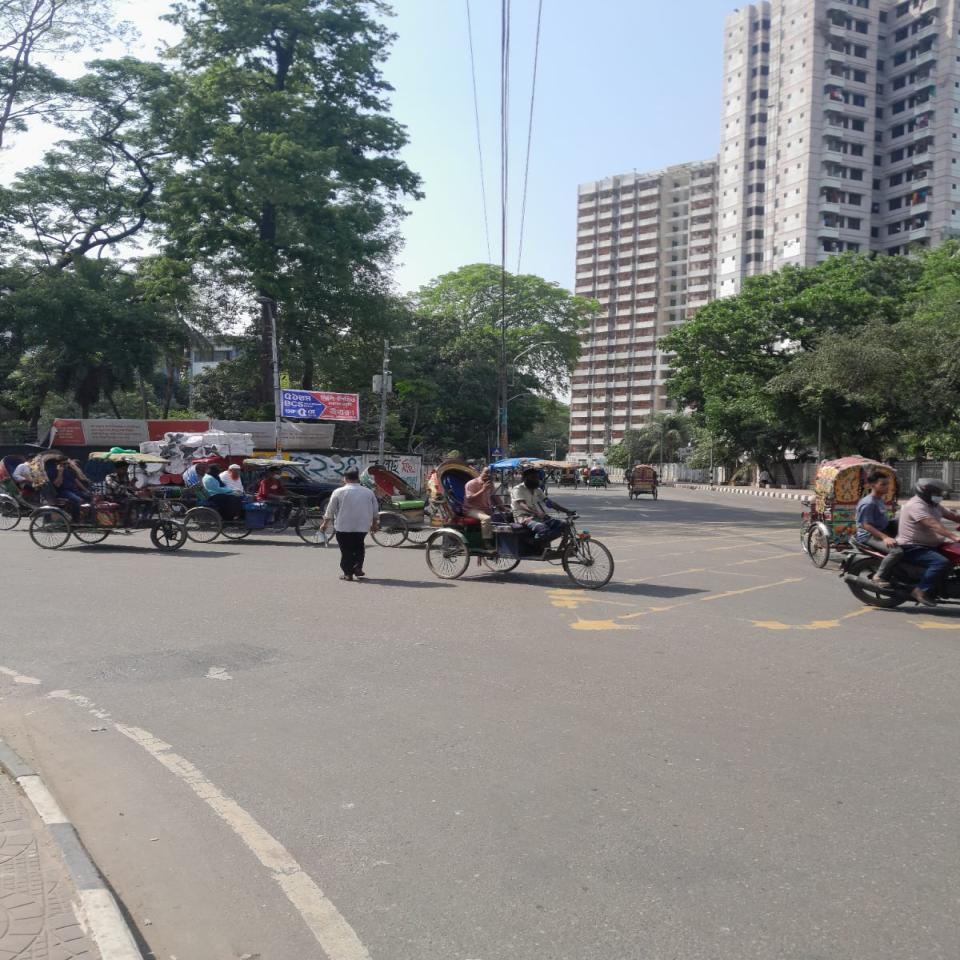person: (321, 468, 379, 580)
